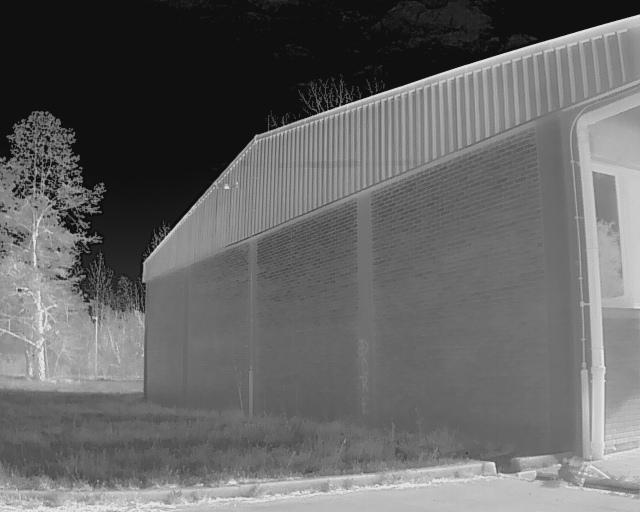drone: (203, 171, 251, 200)
